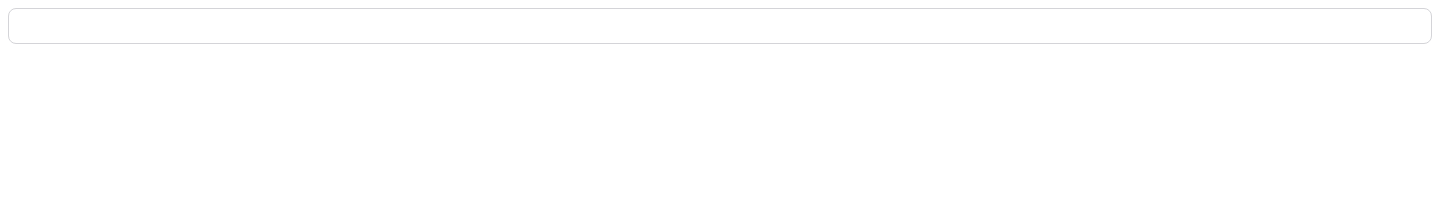
SelectInput mode=searchable › exposes the combobox ARIA contract
The width and height of the screenshot is (1440, 209).
Step 1. Click the dropdown → (720, 26), box [8,8,1432,44]
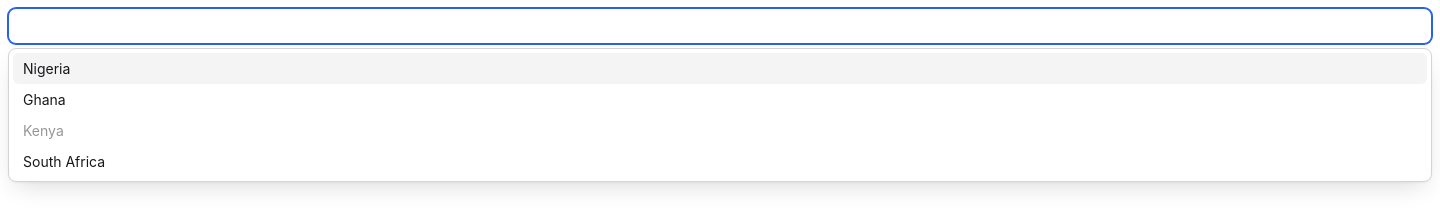
Check: the number of options is 4, box [13,53,1427,84]; [23,91,66,108]; [23,122,64,139]; [23,153,105,170]
